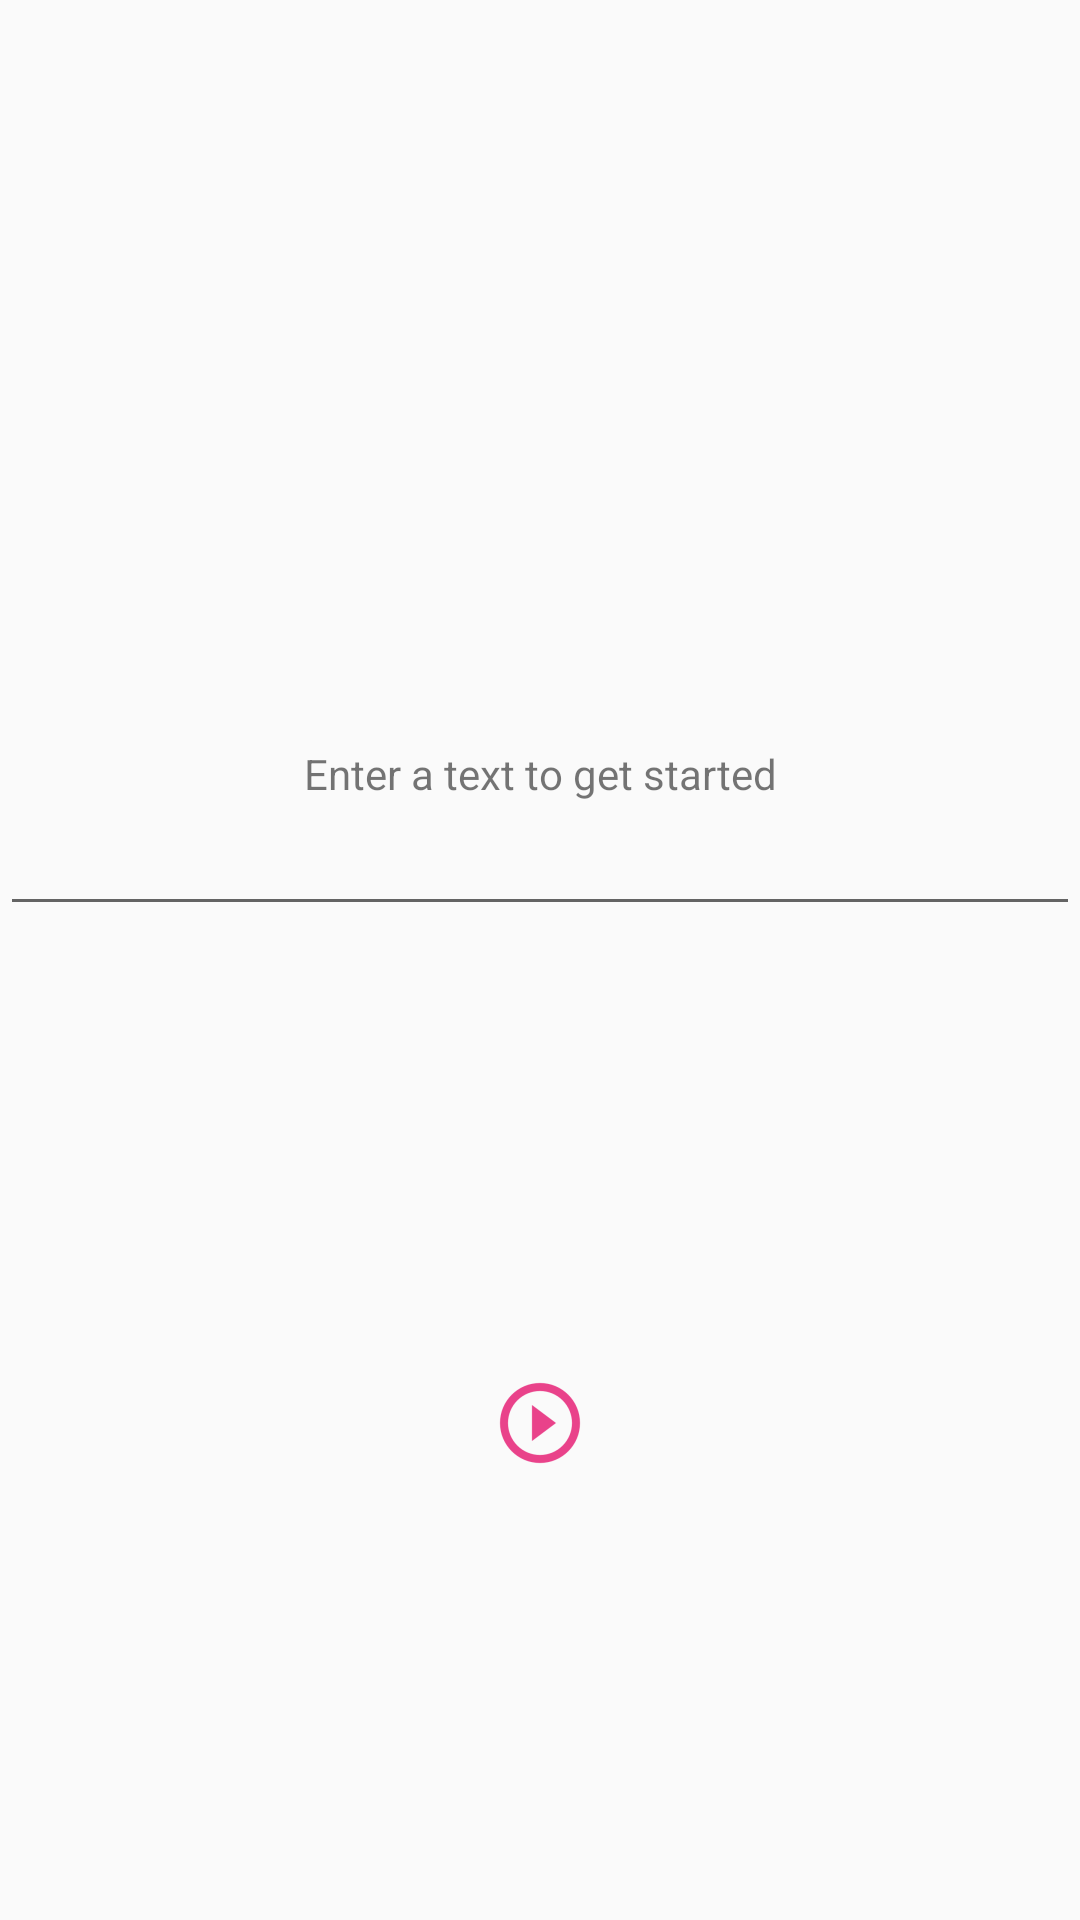

Screen size 1080px×1920px. Icon name, then its center in pixels as point (x, y):
play: point (540, 1423)
